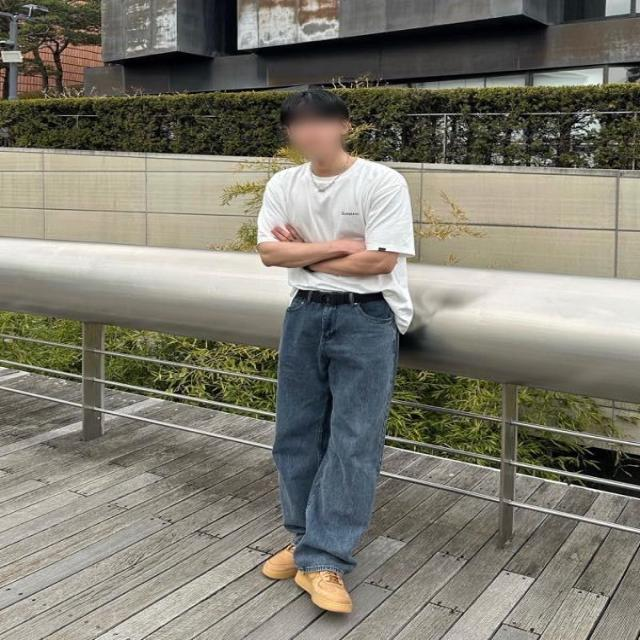denimpants: (280, 293, 399, 576)
shortsleeve: (254, 158, 416, 332)
